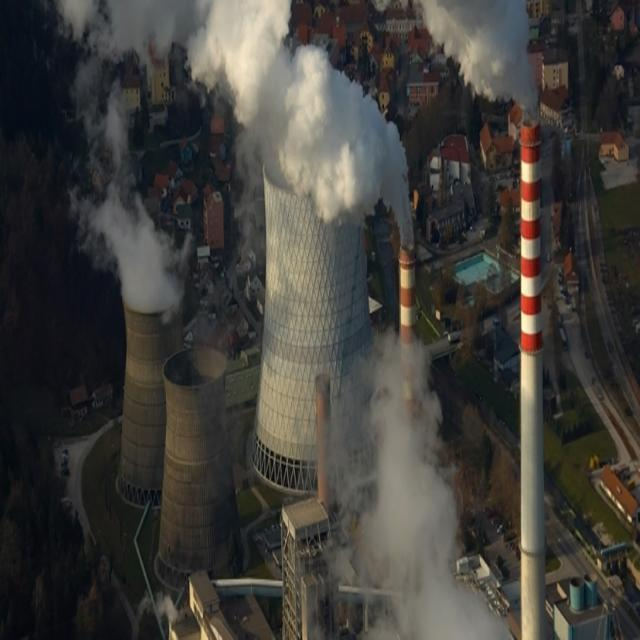Smoke: (56, 0, 416, 325), (317, 325, 514, 640), (411, 0, 541, 129)
